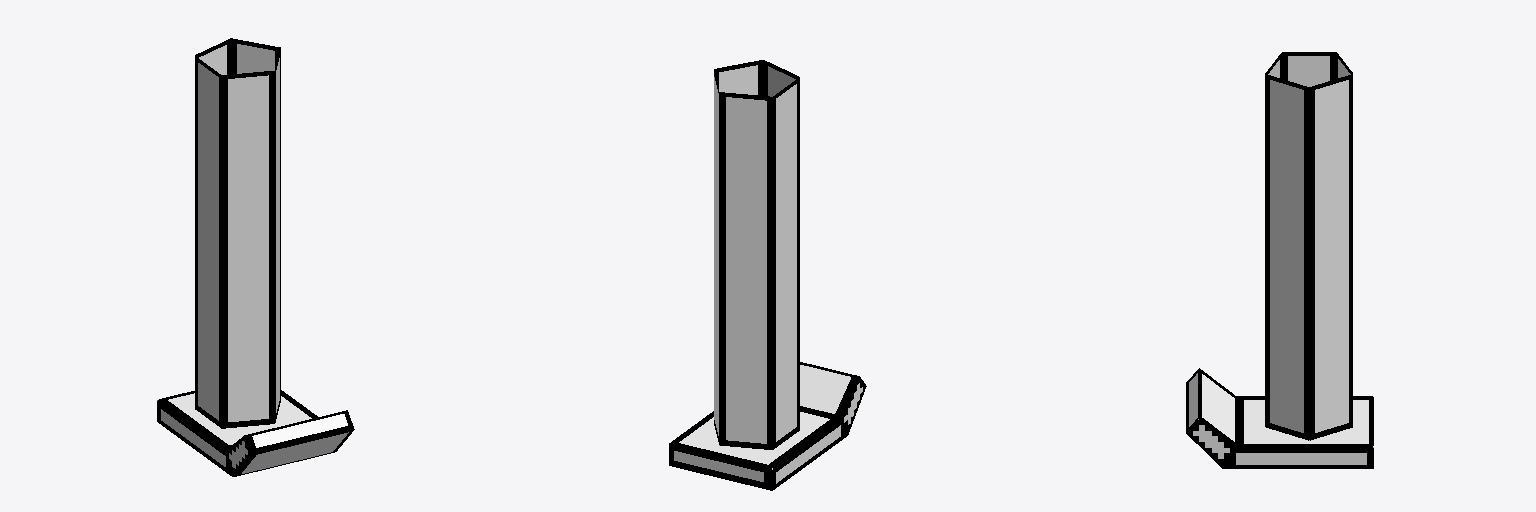
3 renders of one model, left to right at view 1: azimuth 30°, elevation 25°; view 2: azimuth 150°, elevation 25°; view 3: azimuth 270°, elevation 25°, orthographic.
Parts seen in each view (by area): view 1: cube1_sep134, cube1_sep133; view 2: cube1_sep134, cube1_sep133; view 3: cube1_sep134, cube1_sep133.
Boxes of the visible parts, x1=… form: cube1_sep134: x1=195, y1=38, x2=280, y2=428; cube1_sep133: x1=157, y1=390, x2=354, y2=476; cube1_sep134: x1=714, y1=60, x2=799, y2=449; cube1_sep133: x1=669, y1=362, x2=866, y2=490; cube1_sep134: x1=1265, y1=52, x2=1352, y2=440; cube1_sep133: x1=1186, y1=368, x2=1373, y2=468.
Size of the model in its own units: 1.13 by 3.93 by 1.78.
Materials: 1 (1 with a texture image).